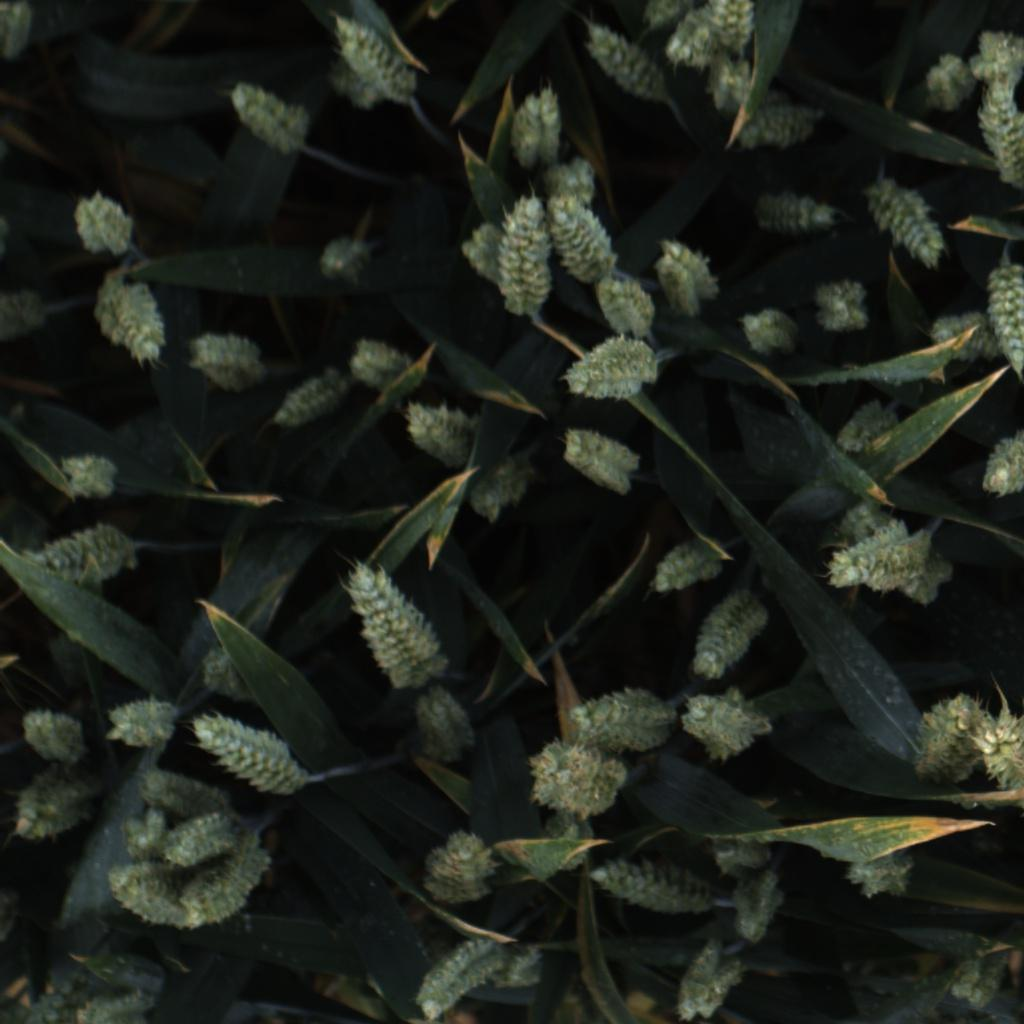0-0: (836, 491, 964, 607), (342, 561, 452, 686), (191, 709, 307, 795), (904, 688, 993, 795), (863, 171, 952, 274), (566, 678, 679, 758), (579, 16, 668, 116), (331, 8, 417, 109), (406, 932, 503, 1021), (526, 738, 635, 817), (26, 516, 139, 592), (820, 525, 936, 593), (688, 590, 774, 681), (682, 680, 773, 765), (88, 273, 171, 365), (14, 762, 97, 854), (188, 844, 270, 937), (552, 336, 662, 404), (586, 858, 710, 917), (498, 186, 552, 321), (225, 78, 313, 159), (547, 188, 620, 285), (668, 936, 747, 1024), (419, 822, 499, 908), (653, 229, 728, 319), (441, 212, 515, 300), (125, 760, 241, 816), (560, 423, 642, 501), (734, 88, 822, 160), (644, 524, 729, 597), (970, 80, 1024, 194), (3, 950, 86, 1024), (103, 860, 184, 934), (726, 864, 800, 944), (650, 10, 729, 84), (465, 446, 536, 528), (401, 399, 479, 472), (179, 641, 258, 713), (409, 687, 482, 764), (978, 707, 1024, 829), (273, 360, 343, 440), (839, 846, 925, 910), (185, 330, 267, 397), (941, 944, 1021, 1011), (832, 388, 903, 461), (754, 186, 843, 244), (698, 826, 782, 887), (504, 82, 565, 164), (922, 305, 1005, 364), (17, 701, 94, 764), (164, 810, 246, 869), (106, 805, 176, 874), (984, 261, 1024, 377), (594, 274, 660, 344), (807, 272, 878, 336), (68, 188, 135, 254), (976, 420, 1024, 512), (106, 693, 179, 753), (735, 299, 802, 362), (703, 55, 760, 128), (542, 152, 614, 209), (534, 816, 602, 874), (347, 334, 411, 395), (922, 45, 976, 116), (1, 2, 55, 71), (965, 25, 1024, 87), (701, 0, 766, 54), (61, 450, 123, 506), (492, 936, 550, 995), (316, 233, 377, 289), (84, 985, 156, 1024)
